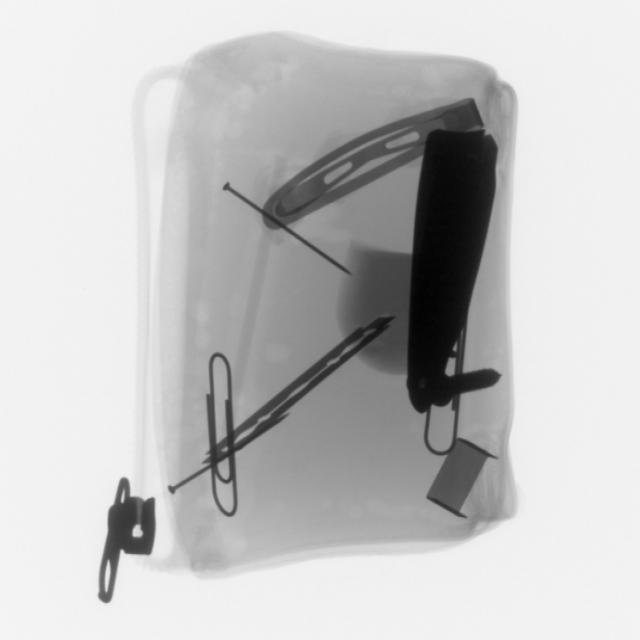BLADE: (259, 111, 442, 229)
